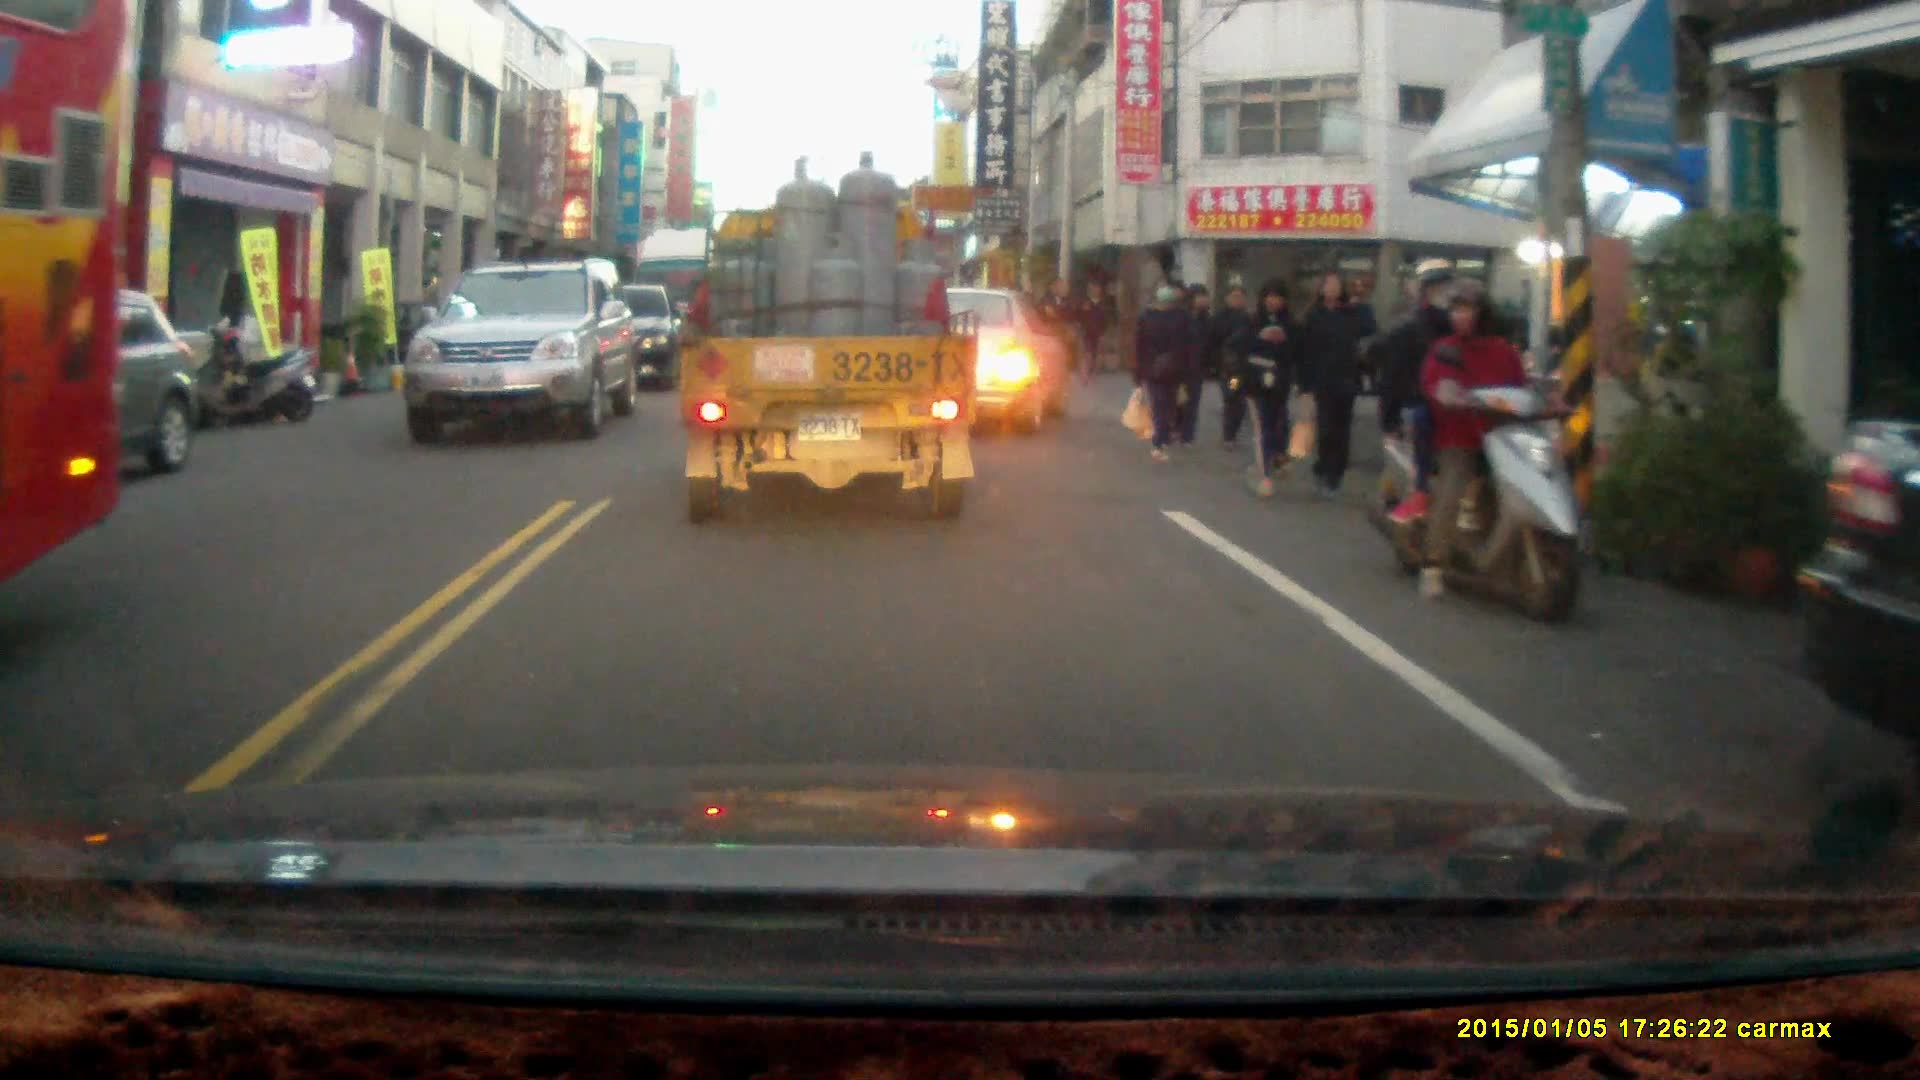pedestrian: (1290, 273, 1377, 499), (1230, 275, 1301, 497), (1128, 273, 1193, 462), (1204, 282, 1266, 446), (1168, 284, 1218, 448), (1039, 278, 1078, 385), (1074, 279, 1110, 387)
rider: (1357, 256, 1584, 620)
vehicle: (675, 148, 979, 525), (1, 7, 131, 580), (1790, 413, 1920, 751), (407, 261, 644, 447), (10, 280, 200, 476), (847, 286, 1078, 440)
